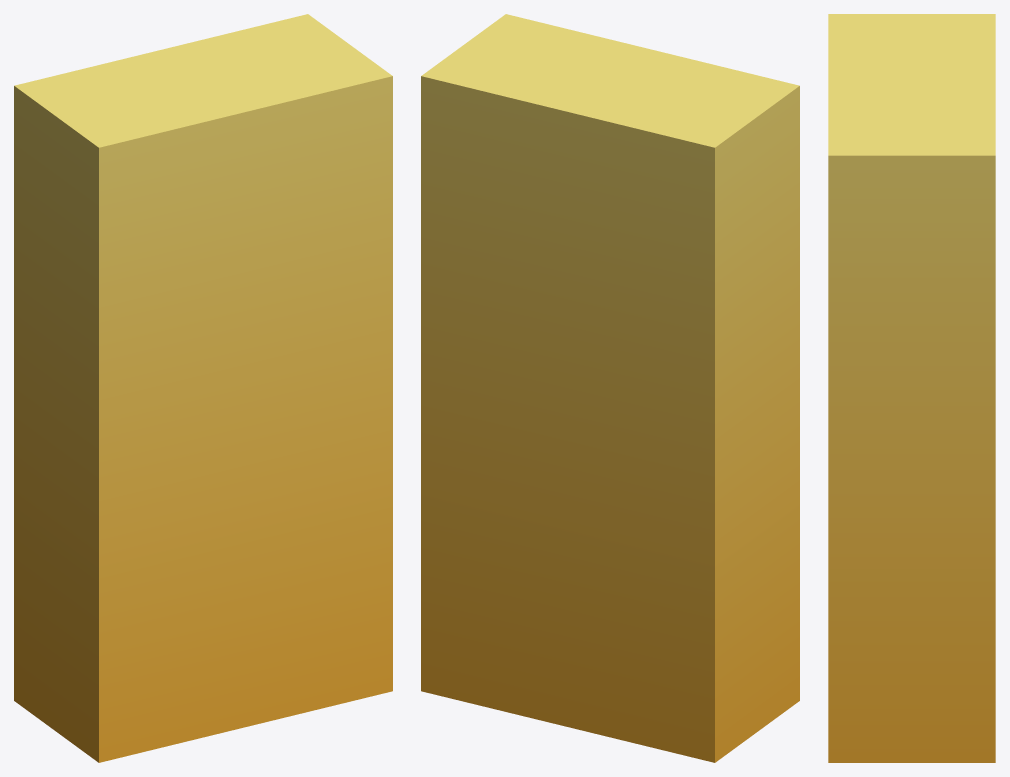
File: Primitive_Wall_Half.glb
The picture shows the model from 3 angles, left to right: view 1: azimuth 30°, elevation 25°; view 2: azimuth 150°, elevation 25°; view 3: azimuth 270°, elevation 25°; orthographic projection.
Visible parts, largest first — view 1: Primitive_Wall_Half; view 2: Primitive_Wall_Half; view 3: Primitive_Wall_Half.
Boxes of the visible parts, x1,y1,x2,y2 form: Primitive_Wall_Half: (14, 14, 392, 762); Primitive_Wall_Half: (421, 14, 799, 762); Primitive_Wall_Half: (828, 14, 995, 762).
Bounding box in the file's own units: 2 × 4 × 1.
1 material, 1 textured.
